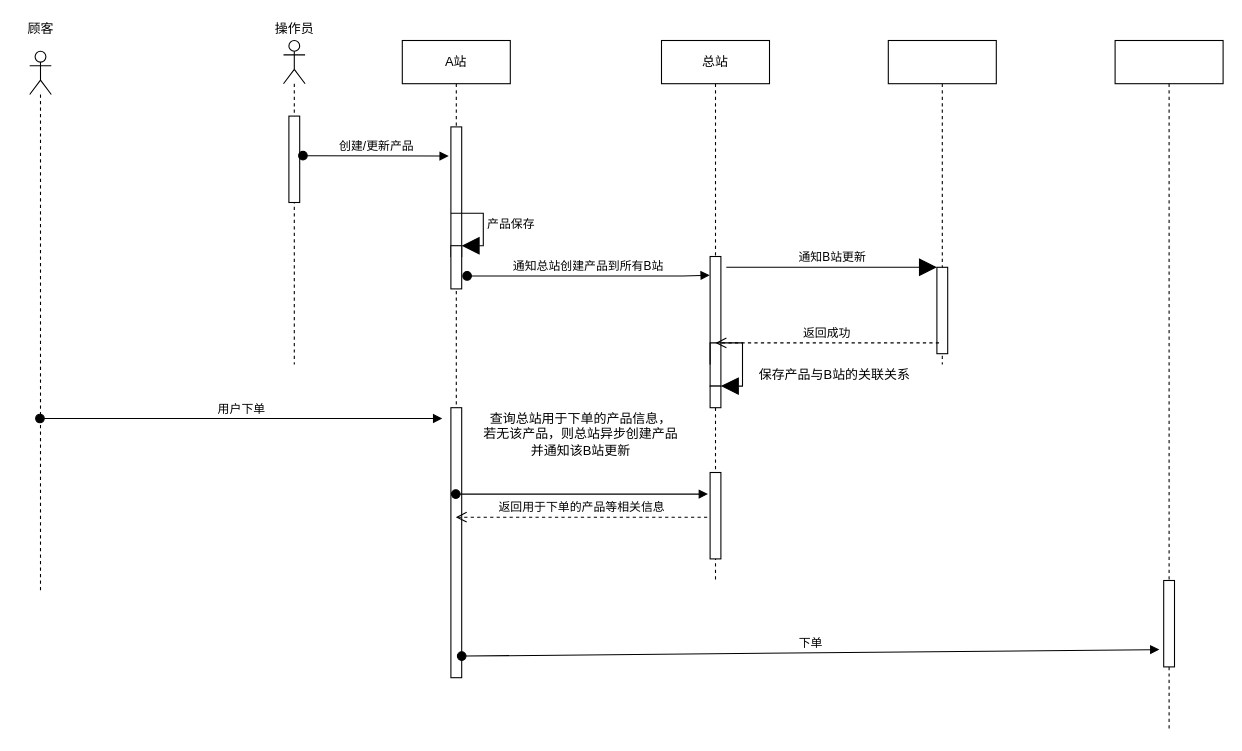
Some shapes in this 1242 by 751 pixel diagram are drawn without their labels. The box of each missing label's shape, as (x1, y1, x2, y2) in pixels:
B站: (887, 39, 996, 364)
支付系统: (1114, 39, 1223, 732)
